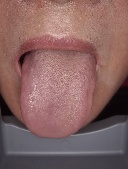tongue: (18, 55, 93, 140)
